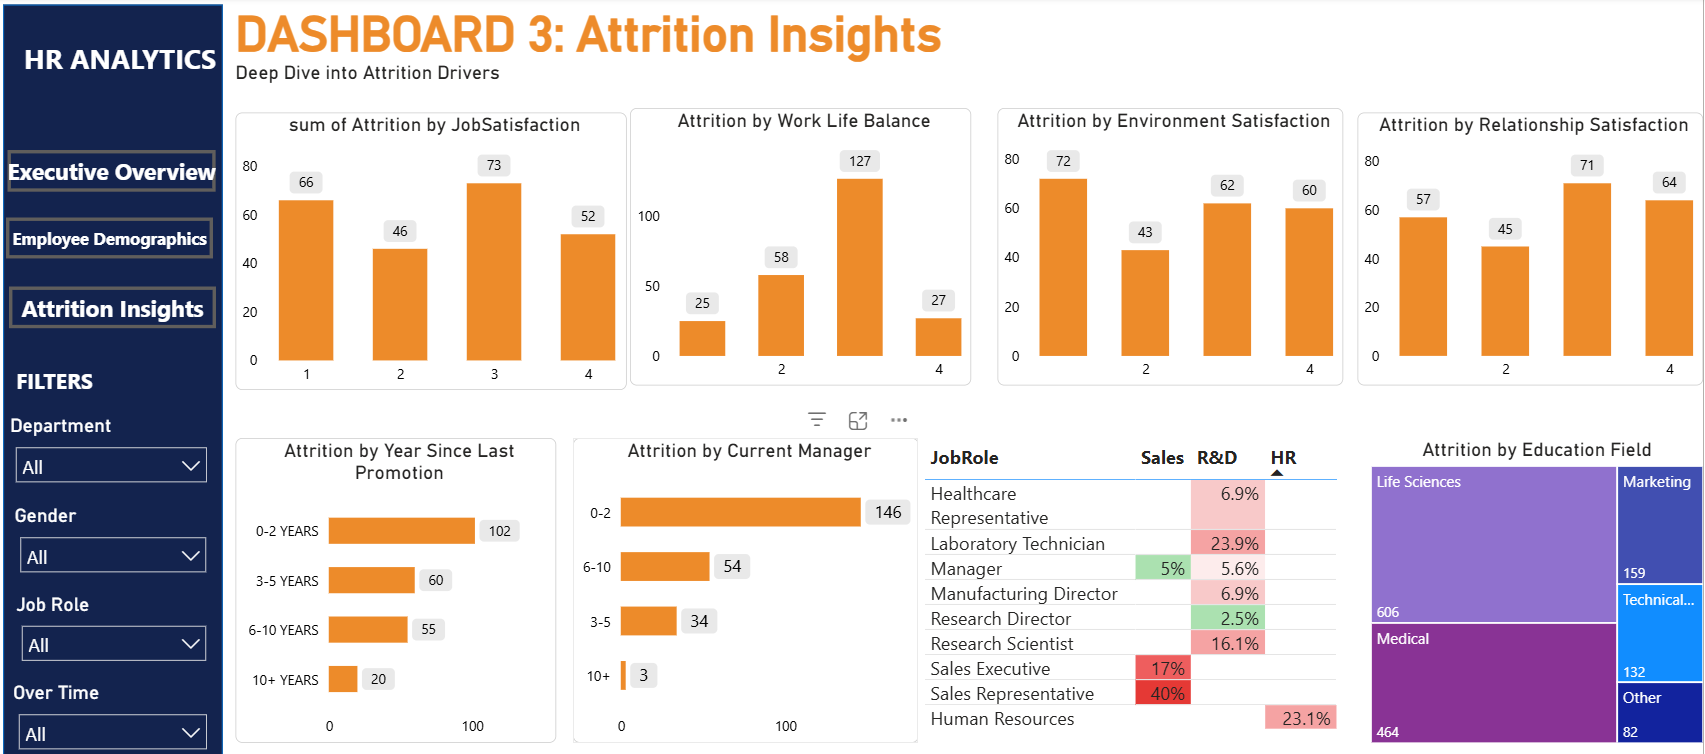

This screenshot's page, from the dashboard's own definition file:
{"tool":"powerbi","page":{"name":"Attrition Insights","canvas":[1500,691],"ordinal":2},"visuals":[{"type":"textbox","box":[210,6,668,92],"z":0},{"type":"columnChart","fields":{"Y":["department.sum of Attrition"],"Category":["HR-Employee-Attrition.JobSatisfaction"]},"box":[210,102,344,244],"z":1000},{"type":"columnChart","title":"Attrition by Work Life Balance","fields":{"Y":["department.sum of Attrition"],"Category":["HR-Employee-Attrition.WorkLifeBalance"]},"box":[556,98,300,244],"z":2000},{"type":"columnChart","title":"Attrition by Environment Satisfaction","fields":{"Y":["department.sum of Attrition"],"Category":["HR-Employee-Attrition.EnvironmentSatisfaction"]},"box":[880,98,304,244],"z":3000},{"type":"columnChart","title":"Attrition by Relationship Satisfaction","fields":{"Y":["department.sum of Attrition"],"Category":["HR-Employee-Attrition.RelationshipSatisfaction"]},"box":[1196,102,304,240],"z":4000},{"type":"barChart","title":"Attrition by Year Since Last Promotion","fields":{"Y":["department.sum of Attrition"],"Category":["HR-Employee-Attrition.Year at compney bucket"]},"box":[210,388,282,268],"z":5000},{"type":"barChart","title":"Attrition by Current Manager","fields":{"Y":["department.sum of Attrition"],"Category":["HR-Employee-Attrition.CURRENT MANAGER BUCKET"]},"box":[506,388,304,268],"z":6000},{"type":"treemap","title":"Attrition by Education Field","fields":{"Group":["HR-Employee-Attrition.EducationField"],"Values":["CountNonNull(HR-Employee-Attrition.Attrition Count)"]},"box":[1208,388,292,268],"z":7000},{"type":"tableEx","fields":{"Values":["HR-Employee-Attrition.JobRole","department.sales Attrition","department.R&D Attrition","department.HR Attrition"]},"box":[810,388,386,268],"z":8000},{"type":"shape","box":[5,6,193.3,671.7],"z":9000},{"type":"textbox","box":[24,37.3,170.7,35.3],"z":10000},{"type":"slicer","title":"Department","fields":{"Values":["department.Department"]},"box":[6.7,366.6,187.7,62.6],"z":11000},{"type":"slicer","title":"Gender","fields":{"Values":["HR-Employee-Attrition.Gender"]},"box":[10.8,445.5,183.6,62.6],"z":12000},{"type":"slicer","title":"Job Role","fields":{"Values":["HR-Employee-Attrition.JobRole"]},"box":[12.1,523.1,182.3,63.9],"z":13000},{"type":"slicer","title":"Over Time","fields":{"Values":["HR-Employee-Attrition.OverTime"]},"box":[9.4,602,185,62.6],"z":14000},{"type":"actionButton","box":[9.4,134.3,183,36.7],"z":15000},{"type":"actionButton","box":[7.7,194.1,182,36.1],"z":16000},{"type":"actionButton","box":[10.8,254,182,36.7],"z":17000},{"type":"textbox","box":[12,318.7,100,41],"z":18000}]}

Visuals, with their boxes on the page's 1500x691 design canvas (x1, y1, x2, y2). These are canvas units, not pixel positions in the 1705x754 screenshot, which may show the page scaled, cropped or inside an application window:
textbox: x1=210, y1=6, x2=878, y2=98
columnChart - department.sum of Attrition x HR-Employee-Attrition.JobSatisfaction: x1=210, y1=102, x2=554, y2=346
"Attrition by Work Life Balance" columnChart: x1=556, y1=98, x2=856, y2=342
"Attrition by Environment Satisfaction" columnChart: x1=880, y1=98, x2=1184, y2=342
"Attrition by Relationship Satisfaction" columnChart: x1=1196, y1=102, x2=1500, y2=342
"Attrition by Year Since Last Promotion" barChart: x1=210, y1=388, x2=492, y2=656
"Attrition by Current Manager" barChart: x1=506, y1=388, x2=810, y2=656
"Attrition by Education Field" treemap: x1=1208, y1=388, x2=1500, y2=656
tableEx - HR-Employee-Attrition.JobRole x department.sales Attrition: x1=810, y1=388, x2=1196, y2=656
shape: x1=5, y1=6, x2=198, y2=678
textbox: x1=24, y1=37, x2=195, y2=73
"Department" slicer: x1=7, y1=367, x2=194, y2=429
"Gender" slicer: x1=11, y1=446, x2=194, y2=508
"Job Role" slicer: x1=12, y1=523, x2=194, y2=587
"Over Time" slicer: x1=9, y1=602, x2=194, y2=665
actionButton: x1=9, y1=134, x2=192, y2=171
actionButton: x1=8, y1=194, x2=190, y2=230
actionButton: x1=11, y1=254, x2=193, y2=291
textbox: x1=12, y1=319, x2=112, y2=360
